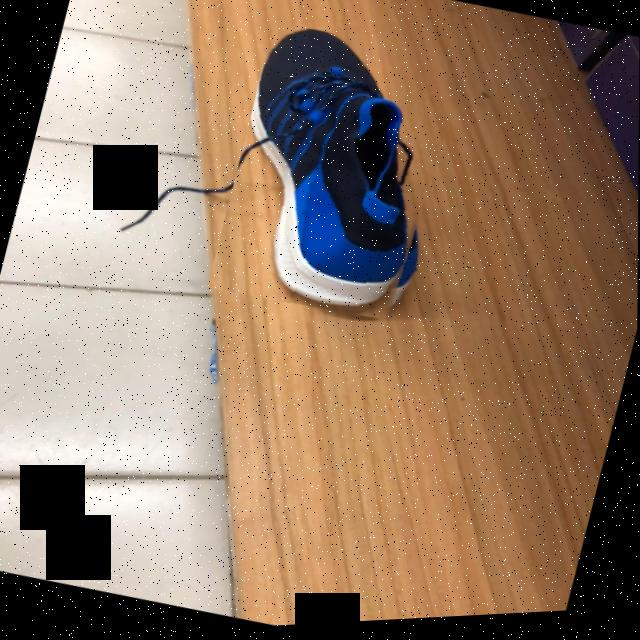shoe: (255, 32, 415, 316)
